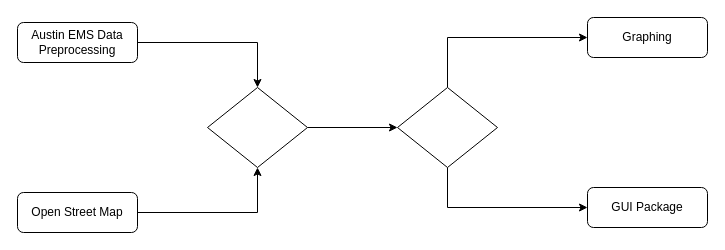
This 725x250 diagram has some shape labels left out. The box of each missing label's shape, as (x1, y1, x2, y2) in pixels:
Linear Program Solver: (206, 86, 308, 168)
Simulation Engine: (396, 86, 498, 168)
